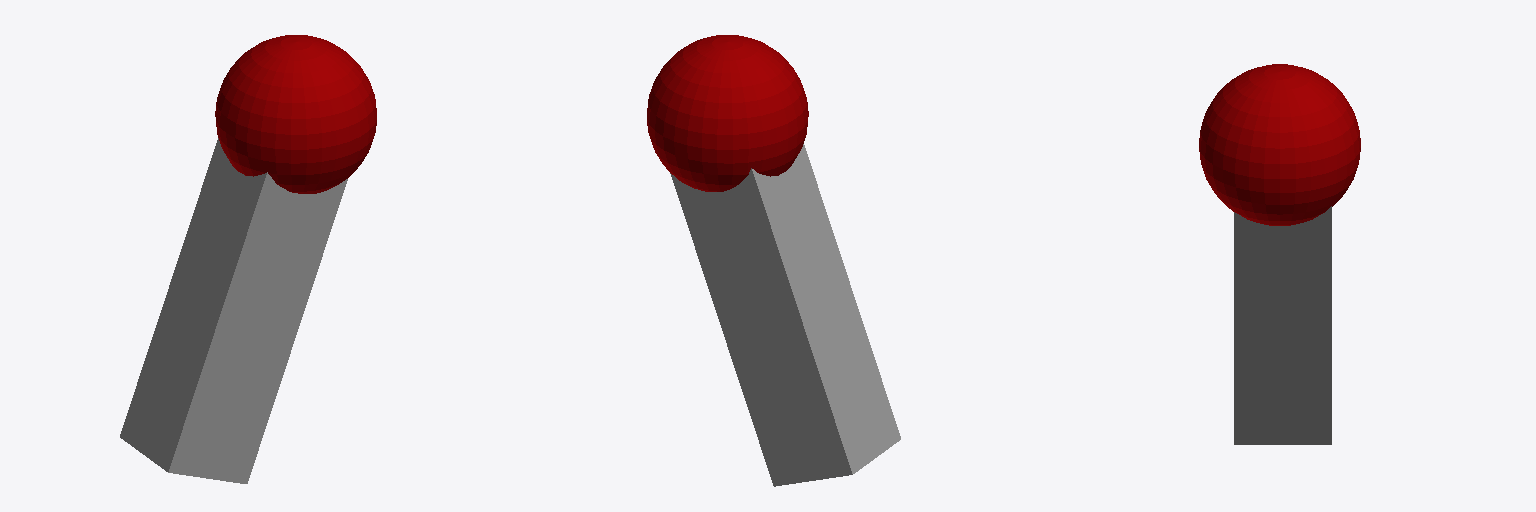
The model's file is julia-right-arm.obj.
3 renders of one model, left to right at view 1: azimuth 30°, elevation 25°; view 2: azimuth 150°, elevation 25°; view 3: azimuth 270°, elevation 25°, orthographic.
Visible parts, largest first — view 1: Cube.004_Cube, Sphere; view 2: Cube.004_Cube, Sphere; view 3: Cube.004_Cube, Sphere.
Part boxes in pixels (left/top/right/bottom): Cube.004_Cube: left=120, top=138, right=347, bottom=483; Sphere: left=215, top=35, right=376, bottom=193; Cube.004_Cube: left=670, top=144, right=900, bottom=486; Sphere: left=647, top=35, right=808, bottom=191; Cube.004_Cube: left=1234, top=206, right=1331, bottom=444; Sphere: left=1199, top=64, right=1360, bottom=225.
Bounding box in the file's own units: 1.94 × 3.42 × 1.23.